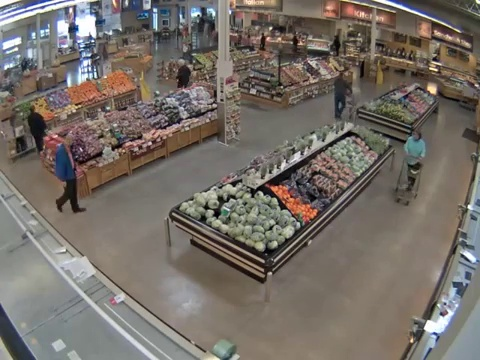face: (412, 130, 421, 141)
